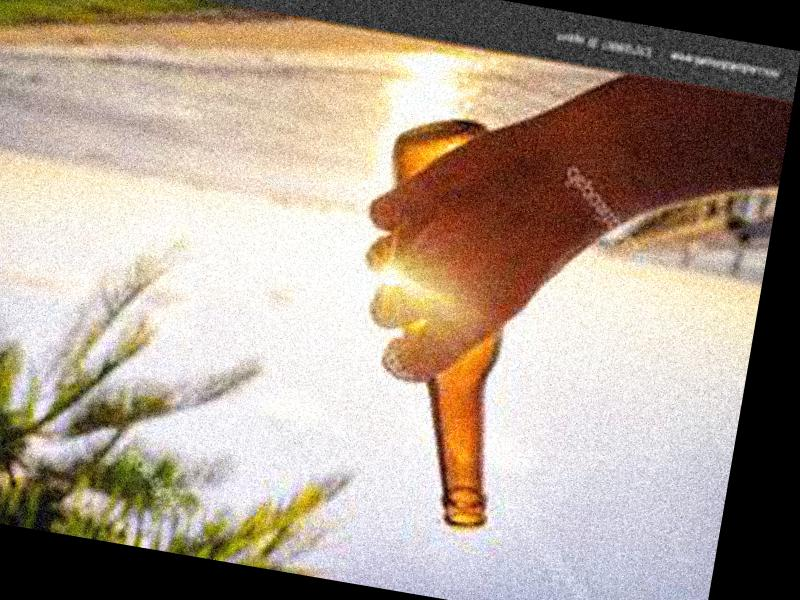Beer: (332, 109, 553, 532)
